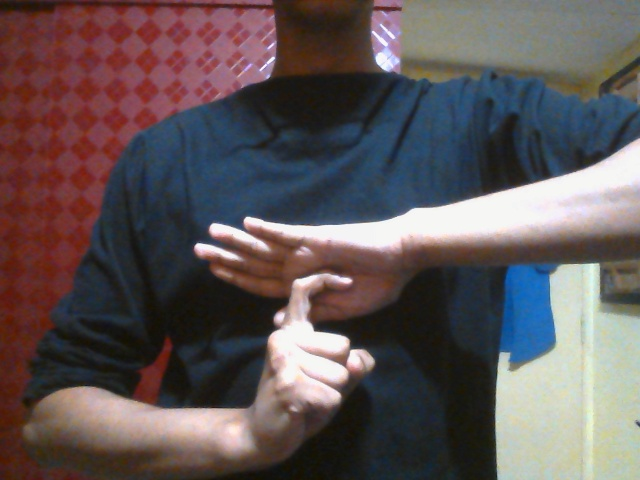R: (188, 211, 428, 457)
